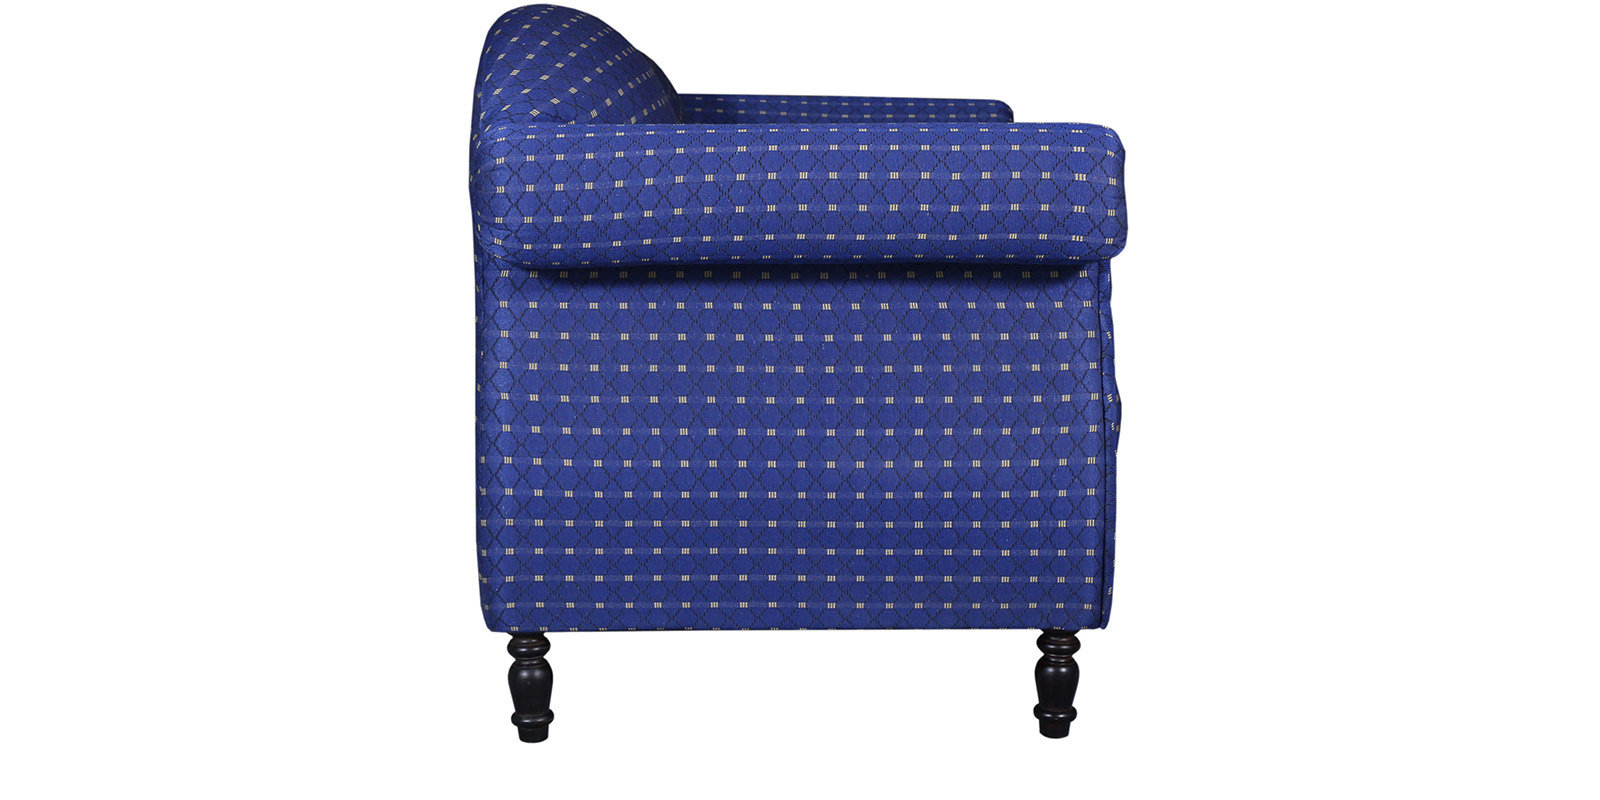Bayley Three Seater Sofa in Blue Color by Amberville: (435, 3, 1143, 681)
